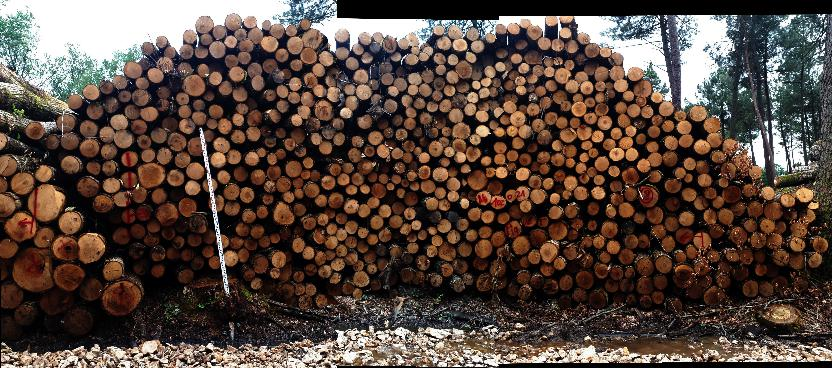etalon: (199, 127, 237, 336)
object: (99, 278, 141, 316), (14, 247, 54, 286), (26, 184, 64, 218), (39, 285, 77, 315), (6, 209, 36, 240), (76, 229, 104, 262), (64, 308, 96, 334), (50, 232, 76, 263), (139, 161, 167, 187), (10, 169, 36, 195), (50, 264, 82, 285), (58, 208, 82, 233), (4, 279, 26, 306), (156, 199, 178, 225), (182, 73, 206, 96), (3, 188, 22, 217), (272, 199, 294, 223), (78, 278, 102, 300), (12, 302, 34, 326), (673, 262, 695, 285), (32, 223, 52, 247), (80, 136, 100, 158), (76, 177, 98, 197), (638, 184, 658, 206), (314, 99, 334, 120), (186, 135, 208, 154), (103, 258, 125, 277), (467, 168, 487, 188), (703, 285, 725, 303), (620, 165, 640, 184), (547, 219, 567, 238), (574, 268, 594, 287), (3, 237, 19, 260), (115, 128, 134, 147), (188, 211, 207, 230), (732, 151, 752, 169), (763, 200, 783, 218), (693, 231, 713, 249), (646, 204, 664, 223), (636, 255, 654, 274), (589, 289, 607, 308), (454, 58, 472, 77), (722, 184, 742, 201), (92, 194, 114, 209), (168, 132, 186, 150), (730, 225, 748, 243), (474, 238, 492, 256), (115, 187, 132, 206), (2, 152, 16, 175), (674, 226, 694, 242), (513, 233, 529, 253), (440, 239, 456, 259), (210, 39, 226, 59), (298, 47, 318, 63), (109, 112, 127, 129), (62, 156, 79, 174), (186, 161, 204, 178), (655, 254, 673, 271), (476, 273, 494, 290), (633, 78, 651, 95), (26, 120, 42, 139), (156, 145, 172, 164), (530, 228, 546, 247), (540, 240, 556, 259), (272, 248, 288, 267), (82, 159, 102, 174), (274, 280, 294, 295), (98, 124, 115, 141), (465, 144, 482, 161), (246, 107, 262, 125), (56, 113, 74, 129), (703, 115, 721, 131), (452, 120, 470, 136), (61, 132, 79, 148), (121, 149, 137, 167), (173, 150, 191, 166), (720, 161, 736, 179), (35, 163, 51, 181), (131, 183, 147, 201), (600, 220, 618, 236), (789, 221, 807, 237), (764, 231, 782, 247), (196, 15, 212, 33), (618, 246, 634, 264), (304, 31, 320, 49), (260, 36, 278, 52), (226, 66, 244, 82), (146, 66, 164, 82), (255, 253, 269, 273), (244, 150, 260, 167), (487, 178, 504, 194), (476, 188, 492, 205), (328, 191, 344, 208), (179, 197, 195, 214), (746, 199, 762, 216), (235, 220, 251, 237), (496, 242, 512, 259), (774, 248, 790, 265), (788, 250, 804, 267), (453, 257, 469, 274), (733, 263, 749, 280), (772, 274, 788, 291), (124, 61, 140, 78), (82, 83, 98, 100), (86, 101, 102, 118), (688, 105, 706, 120), (559, 126, 577, 141), (356, 158, 374, 173), (650, 223, 668, 238), (132, 89, 150, 104), (162, 115, 178, 131), (304, 115, 320, 131), (178, 116, 194, 132), (81, 120, 97, 136), (290, 127, 306, 143), (214, 134, 230, 150), (694, 137, 710, 153), (722, 138, 738, 154), (427, 140, 443, 156), (285, 160, 301, 176), (233, 165, 249, 181), (168, 168, 184, 184), (249, 168, 265, 184), (184, 179, 200, 195), (208, 193, 224, 209), (224, 199, 240, 215), (750, 231, 766, 247), (812, 236, 828, 252), (694, 258, 710, 274), (742, 278, 758, 294), (686, 281, 702, 297), (666, 297, 682, 313), (211, 24, 227, 40), (287, 37, 303, 53), (594, 65, 610, 81), (554, 67, 570, 83), (113, 228, 130, 243), (232, 84, 247, 101), (141, 105, 159, 119), (100, 143, 118, 157), (102, 158, 116, 176), (102, 176, 120, 190), (663, 177, 681, 191), (664, 212, 678, 230), (738, 244, 752, 262), (792, 276, 810, 290), (44, 316, 62, 330), (382, 35, 396, 53), (124, 103, 140, 118), (357, 113, 373, 128), (596, 114, 612, 129), (536, 129, 552, 144), (706, 132, 722, 147), (662, 149, 678, 164), (210, 153, 226, 168), (594, 156, 610, 171), (432, 166, 448, 181), (563, 174, 578, 190), (680, 185, 696, 200), (779, 191, 795, 206), (136, 202, 152, 217), (679, 209, 695, 224), (226, 14, 242, 29), (174, 215, 190, 230), (160, 224, 176, 239), (312, 227, 328, 242), (133, 259, 149, 274), (490, 259, 505, 275), (593, 261, 609, 276), (352, 270, 368, 285), (637, 276, 653, 291), (584, 42, 600, 57), (658, 100, 674, 115), (570, 101, 586, 116), (661, 234, 675, 251), (221, 251, 238, 265), (384, 268, 398, 285), (324, 281, 342, 294), (693, 193, 708, 208), (717, 207, 732, 222), (505, 220, 520, 235), (544, 278, 559, 293), (447, 107, 463, 121), (511, 109, 525, 125), (131, 118, 147, 132), (576, 124, 592, 138), (152, 125, 166, 141), (608, 146, 624, 160), (140, 147, 156, 161), (226, 149, 242, 163), (646, 151, 662, 165), (526, 173, 542, 187), (276, 177, 290, 193), (420, 178, 436, 192), (304, 181, 318, 197), (222, 183, 238, 197), (590, 184, 606, 198), (796, 187, 812, 201), (799, 207, 815, 221), (760, 217, 774, 233), (144, 219, 160, 233), (708, 224, 724, 238), (186, 232, 202, 246), (790, 236, 806, 250), (128, 243, 144, 257), (578, 251, 592, 267), (440, 262, 456, 276), (264, 276, 278, 292), (180, 44, 194, 60), (524, 49, 540, 63), (304, 72, 318, 88), (336, 73, 350, 89), (103, 95, 117, 111), (150, 188, 167, 201), (418, 253, 430, 271), (209, 104, 224, 118), (531, 118, 546, 132), (664, 134, 678, 149), (451, 137, 466, 151), (376, 142, 390, 157), (266, 165, 280, 180), (624, 185, 638, 200), (530, 187, 544, 202), (666, 194, 680, 209), (730, 199, 744, 214), (618, 201, 633, 215), (437, 217, 451, 232), (131, 223, 145, 238), (202, 226, 216, 241), (230, 233, 244, 248), (190, 254, 204, 269), (280, 261, 294, 276), (653, 273, 667, 288), (271, 23, 285, 38), (527, 25, 541, 40), (234, 27, 249, 41), (609, 66, 624, 80), (573, 70, 587, 85), (356, 83, 370, 98), (367, 105, 383, 118), (617, 136, 633, 149), (550, 152, 566, 165), (490, 194, 506, 207), (240, 208, 256, 221), (369, 216, 385, 229), (716, 258, 732, 271), (177, 268, 193, 281), (716, 274, 732, 287), (334, 46, 350, 59), (582, 61, 598, 74), (112, 74, 128, 87), (326, 87, 342, 100), (516, 184, 528, 201), (240, 184, 252, 201), (192, 110, 206, 124), (368, 130, 382, 144), (137, 132, 151, 146), (348, 147, 362, 161), (647, 168, 661, 182), (445, 174, 459, 188), (742, 182, 756, 196), (760, 184, 774, 198), (404, 190, 418, 204), (366, 194, 380, 208), (564, 202, 578, 216), (703, 209, 717, 223), (520, 212, 534, 226), (624, 233, 638, 247), (457, 241, 471, 255), (563, 244, 577, 258), (166, 245, 180, 259), (150, 246, 164, 260), (808, 252, 822, 266), (376, 257, 390, 271), (298, 293, 312, 307), (248, 28, 262, 42), (318, 51, 332, 65), (159, 57, 173, 71), (378, 59, 392, 73), (628, 66, 642, 80), (166, 77, 180, 91), (765, 262, 780, 275), (620, 278, 635, 291), (436, 36, 451, 49), (439, 97, 452, 112), (266, 110, 282, 122), (432, 112, 444, 128), (320, 175, 336, 187), (202, 177, 218, 189), (372, 181, 384, 197), (509, 205, 525, 217), (492, 229, 504, 245), (473, 256, 489, 268), (566, 258, 578, 274), (604, 277, 620, 289), (224, 34, 236, 50), (264, 58, 276, 74), (248, 62, 260, 78), (252, 75, 264, 91), (454, 79, 470, 91), (678, 120, 692, 133), (246, 127, 260, 140), (678, 134, 692, 147), (624, 146, 638, 159), (711, 149, 725, 162), (518, 151, 532, 164), (682, 157, 696, 170), (637, 158, 651, 171), (696, 159, 710, 172), (515, 167, 529, 180), (703, 185, 717, 198), (169, 185, 183, 198), (446, 188, 460, 201), (504, 188, 518, 201), (292, 202, 306, 215), (388, 212, 402, 225), (344, 219, 358, 232), (250, 224, 264, 237), (684, 244, 698, 257), (237, 248, 251, 261), (526, 249, 540, 262), (344, 251, 358, 264), (552, 256, 566, 269), (508, 256, 522, 269), (330, 257, 344, 270), (318, 263, 332, 276), (697, 272, 711, 285), (428, 272, 442, 285), (530, 274, 544, 287), (638, 293, 652, 306), (448, 25, 462, 38), (335, 28, 349, 41), (183, 30, 197, 43), (236, 51, 250, 64), (608, 51, 622, 64), (196, 63, 210, 76), (407, 71, 421, 84), (394, 76, 408, 89), (99, 79, 113, 92), (218, 81, 232, 94), (552, 90, 566, 103), (452, 93, 466, 106), (154, 97, 168, 110), (384, 99, 398, 112), (232, 112, 244, 127), (46, 133, 58, 148), (748, 164, 763, 176), (548, 203, 560, 218), (607, 238, 619, 253), (302, 244, 314, 259), (560, 274, 572, 289), (760, 279, 772, 294), (342, 279, 354, 294), (178, 61, 190, 76), (354, 68, 366, 83), (302, 91, 314, 106), (67, 93, 79, 108), (583, 111, 599, 122), (108, 211, 124, 222), (454, 217, 470, 228), (388, 245, 404, 256), (451, 38, 467, 49), (209, 254, 222, 267), (626, 103, 640, 115), (178, 103, 190, 117), (296, 106, 310, 118), (544, 111, 558, 123), (330, 117, 344, 129), (476, 123, 490, 135), (320, 125, 334, 137), (602, 137, 616, 149), (492, 140, 506, 152), (536, 149, 550, 161), (124, 171, 136, 185), (697, 172, 711, 184), (574, 184, 586, 198), (382, 189, 394, 203), (586, 201, 600, 213), (466, 207, 480, 219), (465, 227, 477, 241), (447, 230, 461, 242), (216, 234, 228, 248), (324, 235, 338, 247), (292, 236, 304, 250), (202, 243, 214, 257), (707, 249, 721, 261), (540, 261, 554, 273), (151, 263, 165, 275), (518, 284, 530, 298), (573, 285, 585, 299), (466, 26, 478, 40), (551, 37, 563, 51), (471, 39, 483, 53), (366, 65, 380, 77), (273, 69, 285, 83), (209, 73, 223, 85), (544, 79, 558, 91), (345, 94, 357, 108), (596, 101, 608, 115), (639, 232, 650, 247), (219, 168, 229, 184), (618, 114, 630, 127), (376, 116, 388, 129), (662, 119, 674, 132), (518, 124, 530, 137), (395, 128, 407, 141), (232, 129, 244, 142), (284, 137, 296, 150), (318, 140, 330, 153), (294, 143, 306, 156), (564, 143, 576, 156), (418, 164, 430, 177), (495, 164, 507, 177), (282, 189, 294, 202), (712, 193, 724, 206), (425, 195, 437, 208), (392, 200, 404, 213), (358, 203, 370, 216), (256, 204, 268, 217), (482, 208, 494, 221), (244, 15, 256, 28), (744, 217, 756, 230), (774, 218, 786, 231), (622, 219, 634, 232), (479, 224, 491, 237), (146, 233, 158, 246), (593, 234, 605, 247), (244, 234, 256, 247), (800, 263, 812, 276), (402, 267, 414, 280), (242, 267, 254, 280), (413, 269, 425, 282), (494, 275, 506, 288), (454, 278, 466, 291), (316, 292, 328, 305), (406, 32, 418, 45), (577, 32, 589, 45), (538, 35, 550, 48), (564, 39, 576, 52), (275, 47, 287, 60), (421, 69, 433, 82), (566, 79, 578, 92), (276, 100, 288, 113), (640, 106, 654, 117), (418, 112, 432, 123), (632, 116, 646, 127), (526, 137, 537, 151), (402, 139, 416, 150), (55, 151, 69, 162), (350, 172, 364, 183), (344, 184, 358, 195), (496, 211, 510, 222), (609, 265, 623, 276), (282, 295, 296, 306), (238, 40, 252, 51), (194, 46, 208, 57), (138, 57, 152, 68), (210, 61, 224, 72), (312, 63, 326, 74), (580, 81, 594, 92), (118, 89, 132, 100), (466, 91, 480, 102), (539, 96, 553, 107), (463, 103, 477, 114), (124, 206, 132, 225), (219, 117, 229, 132), (606, 203, 616, 218), (142, 42, 152, 57), (234, 103, 249, 113), (555, 115, 567, 127), (404, 117, 416, 129), (648, 125, 660, 137), (591, 129, 603, 141), (352, 134, 364, 146), (551, 138, 563, 150), (646, 138, 658, 150), (493, 152, 505, 164), (574, 161, 586, 173), (329, 162, 341, 174), (543, 176, 555, 188), (610, 178, 622, 190), (611, 192, 623, 204), (438, 197, 450, 209), (403, 206, 415, 218), (315, 212, 327, 224), (566, 228, 578, 240), (366, 232, 378, 244), (344, 234, 356, 246), (172, 235, 184, 247), (363, 248, 375, 260), (314, 250, 326, 262), (305, 262, 317, 274), (754, 263, 766, 275), (386, 287, 398, 299), (612, 289, 624, 301), (558, 295, 570, 307), (560, 27, 572, 39), (358, 32, 370, 44), (351, 43, 363, 55), (447, 52, 459, 64), (481, 53, 493, 65), (346, 57, 358, 69), (324, 75, 336, 87), (432, 77, 444, 89), (368, 78, 380, 90), (614, 79, 626, 91), (502, 93, 518, 102), (192, 97, 204, 109), (504, 100, 516, 112), (476, 110, 489, 121), (507, 147, 518, 160), (427, 243, 438, 256), (392, 111, 402, 125), (552, 169, 566, 179), (298, 19, 312, 29), (581, 234, 591, 248), (199, 34, 213, 44), (598, 47, 612, 57), (494, 48, 508, 58), (380, 74, 394, 84), (290, 76, 300, 90), (340, 106, 352, 117), (674, 109, 686, 120), (290, 114, 302, 125), (506, 124, 518, 135), (426, 126, 438, 137), (512, 136, 524, 147), (328, 148, 340, 159), (453, 152, 465, 163), (302, 157, 314, 168), (434, 186, 446, 197), (520, 199, 531, 211), (378, 204, 390, 215), (416, 206, 427, 218), (428, 209, 440, 220), (570, 215, 582, 226), (182, 247, 194, 258), (754, 250, 766, 261), (352, 257, 364, 268), (392, 258, 404, 269), (518, 270, 530, 281), (330, 271, 342, 282), (461, 272, 473, 283), (250, 277, 262, 288), (507, 22, 519, 33), (370, 277, 382, 288), (672, 283, 684, 294), (369, 41, 381, 52), (163, 46, 175, 57), (390, 50, 402, 61), (434, 51, 446, 62), (532, 64, 544, 75), (395, 65, 407, 76), (508, 69, 520, 80), (136, 77, 148, 88), (343, 83, 355, 94), (443, 84, 455, 95), (312, 84, 324, 95), (157, 85, 169, 96), (386, 85, 398, 96), (276, 85, 288, 96), (594, 91, 606, 102), (650, 91, 662, 102), (176, 92, 188, 103), (370, 93, 382, 104), (413, 97, 425, 108), (426, 100, 438, 111), (334, 132, 344, 145), (262, 190, 272, 203), (316, 193, 326, 206), (304, 215, 314, 228), (295, 222, 305, 235), (366, 261, 376, 274), (226, 53, 236, 66), (292, 58, 302, 71), (448, 69, 458, 82), (420, 82, 430, 95), (264, 88, 274, 101), (201, 131, 215, 140), (404, 231, 418, 240), (652, 114, 663, 125), (611, 127, 622, 138), (635, 133, 646, 144), (468, 188, 479, 199), (548, 191, 559, 202), (520, 255, 531, 266), (507, 283, 518, 294), (485, 32, 496, 43), (574, 53, 585, 64), (535, 84, 546, 95), (260, 124, 272, 134), (382, 126, 394, 136), (384, 137, 396, 147), (586, 165, 598, 175), (309, 169, 319, 181), (378, 172, 390, 182), (337, 173, 349, 183), (593, 174, 605, 184), (292, 176, 304, 186), (264, 180, 276, 190), (634, 210, 644, 222), (336, 211, 346, 223), (263, 220, 275, 230), (326, 223, 338, 233), (281, 227, 291, 239), (380, 228, 390, 240), (269, 231, 279, 243), (431, 233, 441, 245), (356, 240, 368, 250), (336, 244, 348, 254), (376, 243, 386, 255), (599, 251, 611, 261), (652, 289, 662, 301), (286, 23, 296, 35), (432, 25, 444, 35), (516, 37, 526, 49), (465, 50, 475, 62), (362, 52, 372, 64), (406, 54, 418, 64), (564, 58, 574, 70), (504, 59, 514, 71), (518, 63, 530, 73), (491, 76, 501, 88), (583, 96, 595, 106), (616, 100, 626, 112), (559, 16, 575, 23), (350, 286, 364, 294), (626, 125, 636, 136), (412, 126, 422, 137), (311, 132, 321, 143), (364, 144, 374, 155), (392, 147, 402, 158), (276, 148, 286, 159), (266, 154, 276, 165), (530, 160, 540, 171), (609, 165, 620, 175), (407, 169, 417, 180), (293, 187, 303, 198), (400, 221, 410, 232), (358, 226, 368, 237), (262, 19, 272, 30), (324, 247, 334, 258), (675, 250, 685, 261), (624, 265, 634, 276), (494, 23, 505, 33), (294, 281, 304, 292), (306, 282, 316, 293), (626, 292, 636, 303), (511, 54, 522, 64), (282, 66, 292, 77), (328, 66, 338, 77), (431, 89, 441, 100), (288, 91, 298, 102), (560, 100, 570, 111), (404, 107, 416, 116), (469, 134, 481, 143), (545, 16, 557, 25), (484, 66, 496, 75), (245, 98, 257, 107), (477, 100, 489, 109), (404, 93, 412, 106), (570, 116, 580, 126), (494, 126, 504, 136), (276, 128, 286, 138), (266, 135, 276, 145), (419, 136, 429, 146), (588, 146, 598, 156), (402, 151, 412, 161), (418, 152, 428, 162), (408, 159, 418, 169), (380, 161, 390, 171), (395, 161, 405, 171), (343, 161, 353, 171), (460, 162, 470, 172), (448, 164, 458, 174), (674, 167, 684, 177), (578, 172, 588, 182), (553, 181, 563, 191), (360, 183, 370, 193), (561, 189, 571, 199), (348, 200, 358, 210), (324, 206, 334, 216), (448, 210, 458, 220), (538, 215, 548, 225), (336, 228, 346, 238), (258, 235, 268, 245), (402, 252, 412, 262), (156, 37, 166, 47), (398, 39, 408, 49), (418, 52, 428, 62), (544, 56, 554, 66), (544, 67, 554, 77), (471, 69, 481, 79), (514, 76, 524, 86), (480, 77, 490, 87), (505, 80, 516, 89), (408, 85, 419, 94), (635, 96, 646, 105), (206, 118, 218, 126), (437, 136, 449, 144), (540, 162, 548, 174), (460, 196, 468, 208), (526, 74, 538, 82), (582, 140, 592, 149), (579, 152, 589, 161), (482, 154, 491, 164), (367, 171, 377, 180), (808, 198, 818, 207), (520, 18, 530, 27), (270, 268, 280, 277), (294, 271, 304, 280), (373, 32, 383, 41), (554, 55, 564, 64), (436, 64, 446, 73), (479, 87, 489, 96), (204, 89, 214, 98), (623, 91, 633, 100), (528, 92, 538, 101), (494, 106, 502, 117), (444, 145, 452, 156), (257, 146, 265, 157), (506, 162, 514, 173), (302, 168, 310, 179), (392, 227, 400, 238), (490, 99, 498, 110), (500, 114, 510, 122), (489, 118, 497, 128), (442, 125, 450, 135), (439, 156, 449, 164), (565, 158, 575, 166), (392, 172, 400, 182), (718, 178, 728, 186), (410, 181, 420, 189), (396, 187, 404, 197), (300, 197, 310, 205), (588, 219, 596, 229), (412, 220, 422, 228), (549, 305, 559, 313), (494, 63, 504, 71), (605, 81, 613, 91), (524, 82, 534, 90), (573, 93, 583, 101), (487, 165, 494, 176), (684, 173, 692, 182), (428, 224, 436, 233), (418, 229, 426, 238), (423, 47, 432, 55), (472, 80, 480, 89), (596, 81, 604, 90), (168, 102, 176, 111), (516, 85, 526, 92), (401, 177, 409, 185), (386, 181, 394, 189), (421, 42, 429, 49), (411, 46, 419, 53), (490, 88, 498, 95), (606, 89, 614, 96), (414, 146, 420, 154), (461, 189, 467, 196), (462, 178, 466, 184)
pile: (15, 14, 828, 314)
